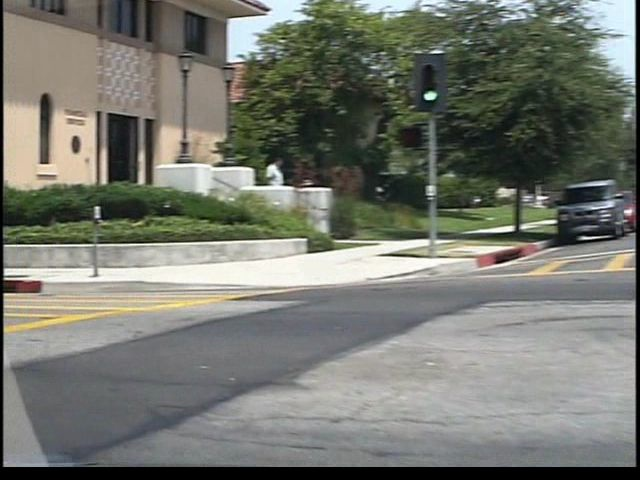person: (251, 151, 274, 220)
